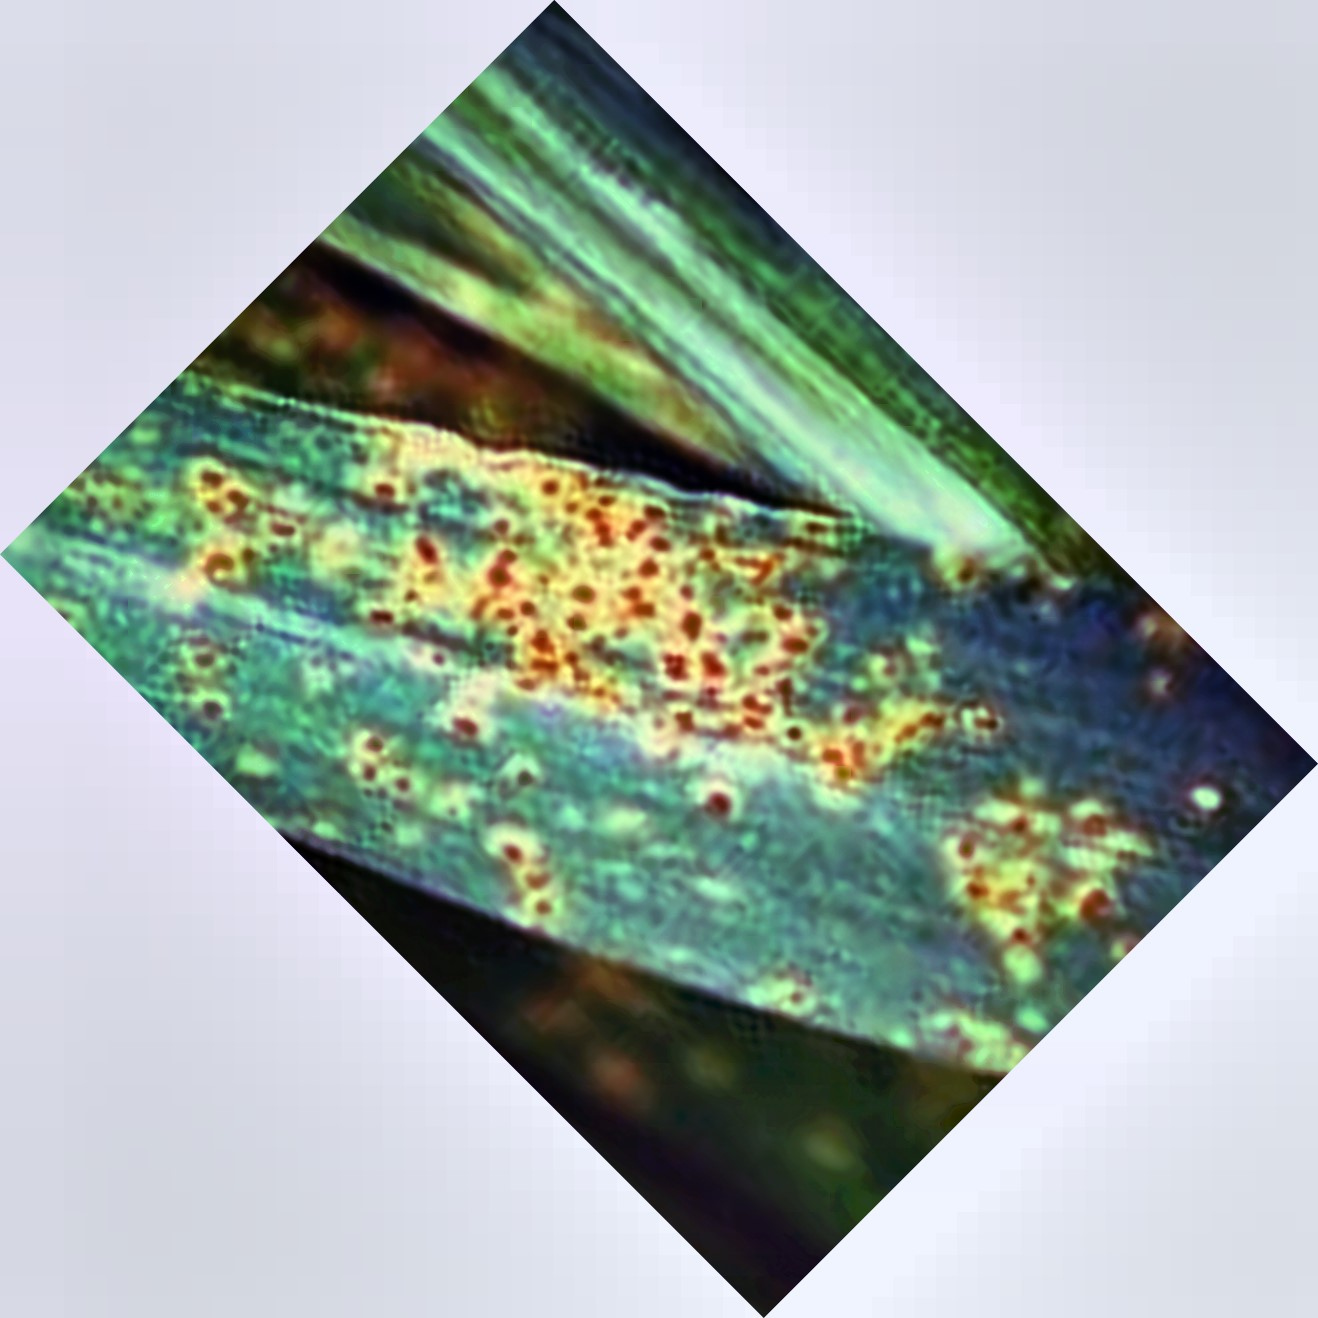Leaf Rust: (253, 387, 940, 941)
